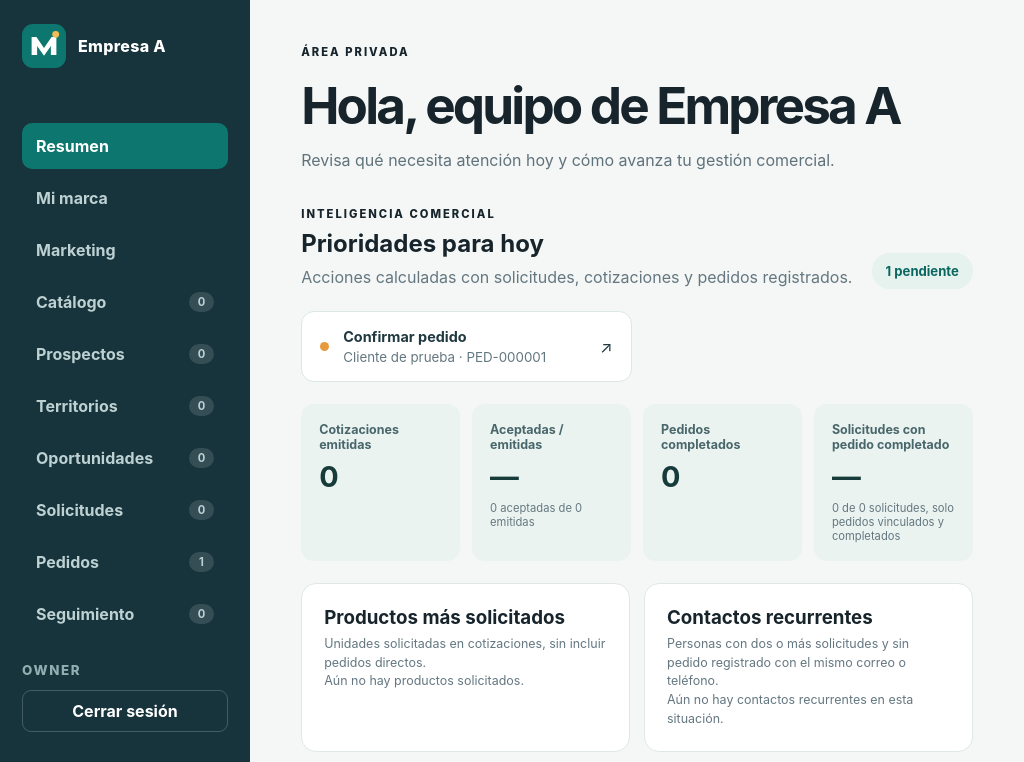
Test case: multi-tenant application routes › opens the matching order from the commercial priorities dashboard
The width and height of the screenshot is (1024, 762).
Expected: the text "1 pendiente" is shown, [872,253,973,289]
Click the button "Confirmar pedido Cliente de prueba · PED-000001 ↗": click(466, 346) [301,311,632,382]
(page scrolled)
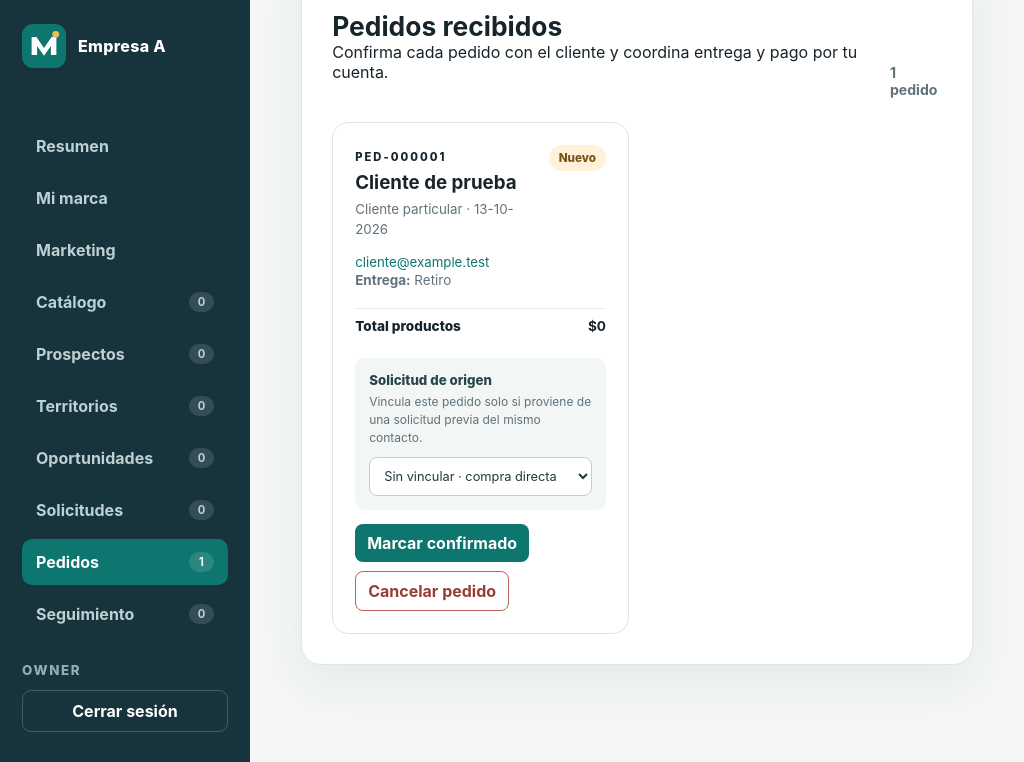
Expected: the heading "Pedidos recibidos" is shown, [332,10,562,42]
Expected: the element with id "order-order-1" shows "PED-000001", [355,150,446,164]
